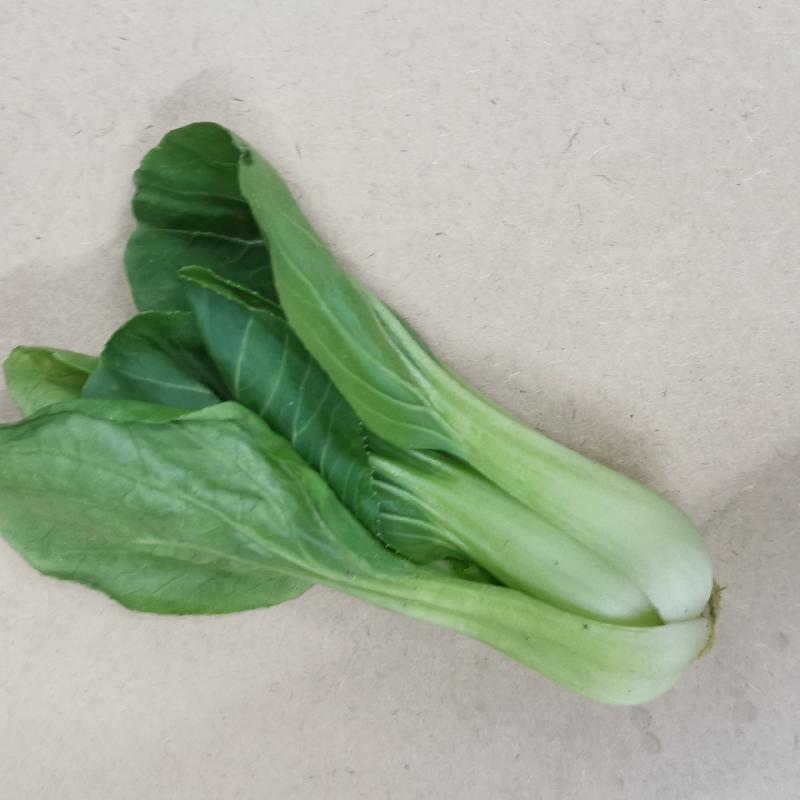green vegatable: (10, 122, 715, 713)
